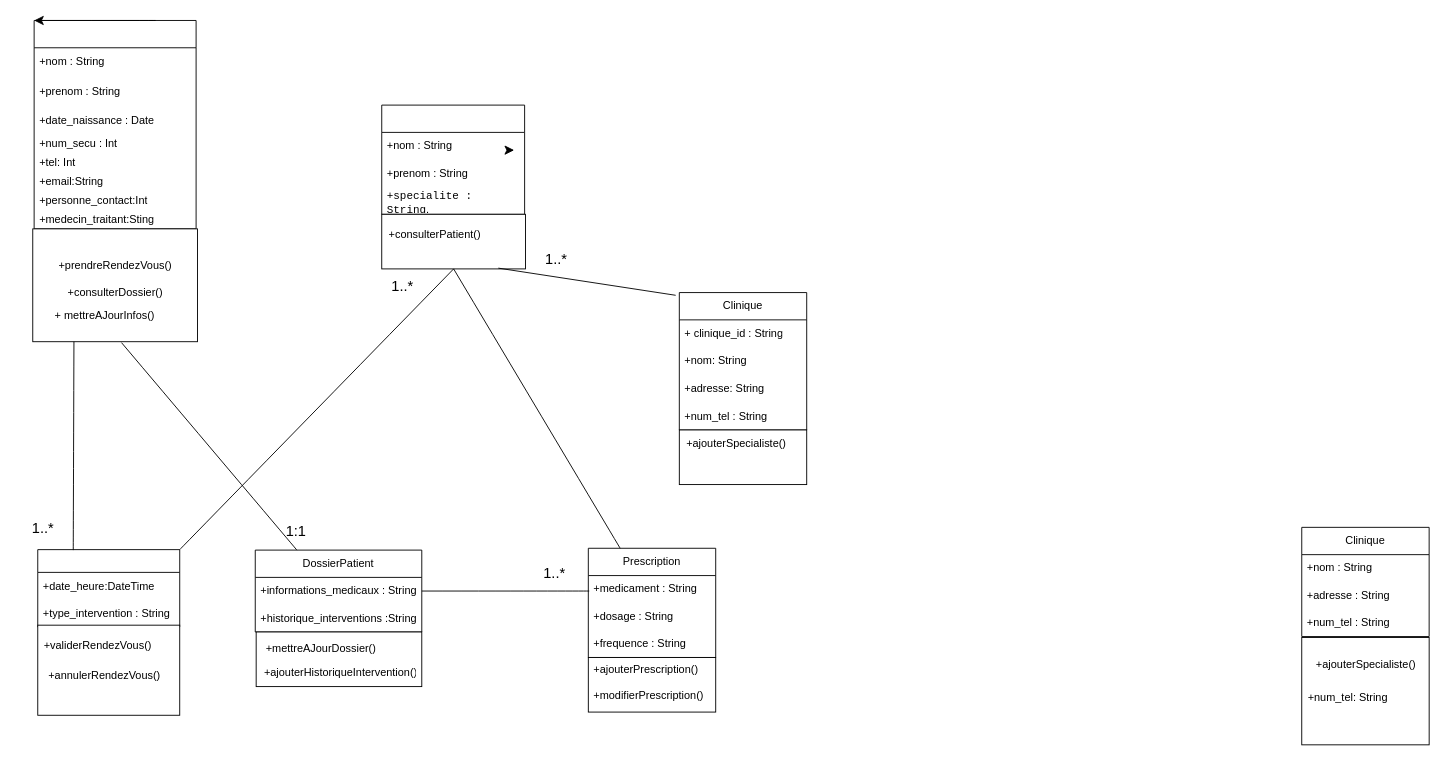
Image size: 1452x761. Some labels were removed from this diagram. Here are the shapes that lost their labels. From the top down, the box of each, then its label:
(33, 20, 196, 229): Patient
(381, 104, 525, 214): Specialiste
(37, 549, 180, 627): Rendez-vous
